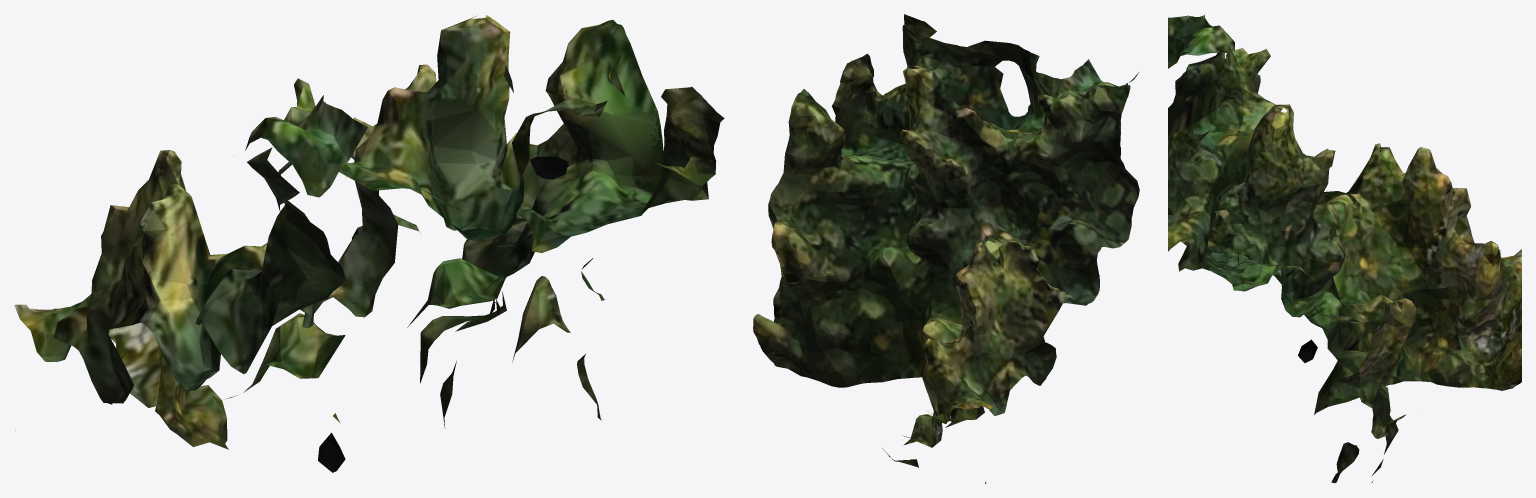
3 views of the same model, side by side, from view 1: azimuth 30°, elevation 25°; view 2: azimuth 150°, elevation 25°; view 3: azimuth 270°, elevation 25° (orthographic). The views are drawn at different scales.
Size of the model in its own units: 1.67 by 1.67 by 1.67.
Materials: 6 (6 with a texture image).
